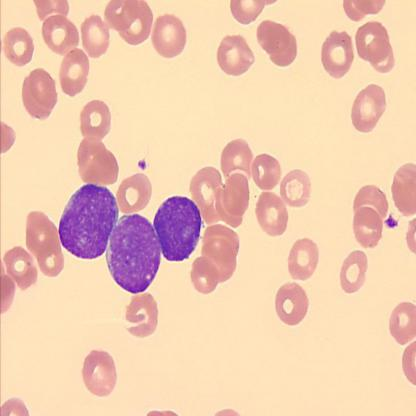Blast: (103, 212, 164, 296), (58, 182, 120, 262), (150, 193, 204, 264)
